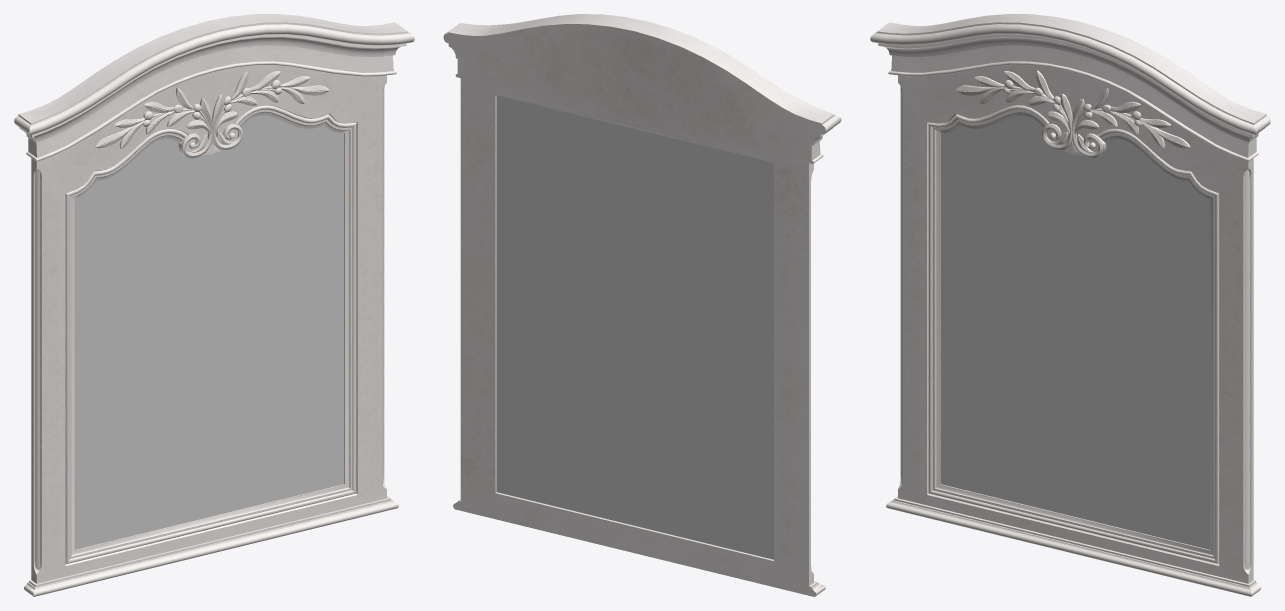
File: example182.glb
3 views of the same model, side by side, from view 1: azimuth 30°, elevation 25°; view 2: azimuth 150°, elevation 25°; view 3: azimuth 330°, elevation 25° (orthographic).
Parts seen in each view (by area): view 1: Buffer Layer (×2); view 2: Buffer Layer (×2); view 3: Buffer Layer (×2).
Boxes of the visible parts, box(x1,y1,x2,y2) form: Buffer Layer (×2): box(14, 14, 414, 596); Buffer Layer (×2): box(443, 14, 841, 596); Buffer Layer (×2): box(870, 14, 1270, 596).
Size of the model in its own units: 0.76 by 0.9912 by 0.053.
2 materials, 1 textured.
